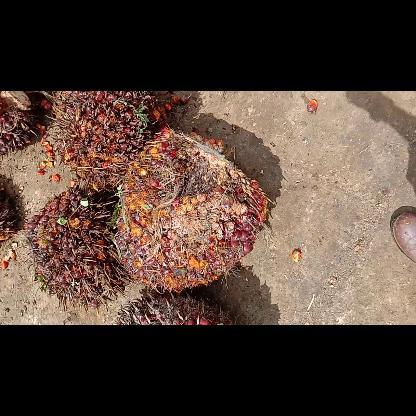TBS masak: (114, 126, 268, 292), (26, 186, 128, 306), (48, 91, 148, 189)
